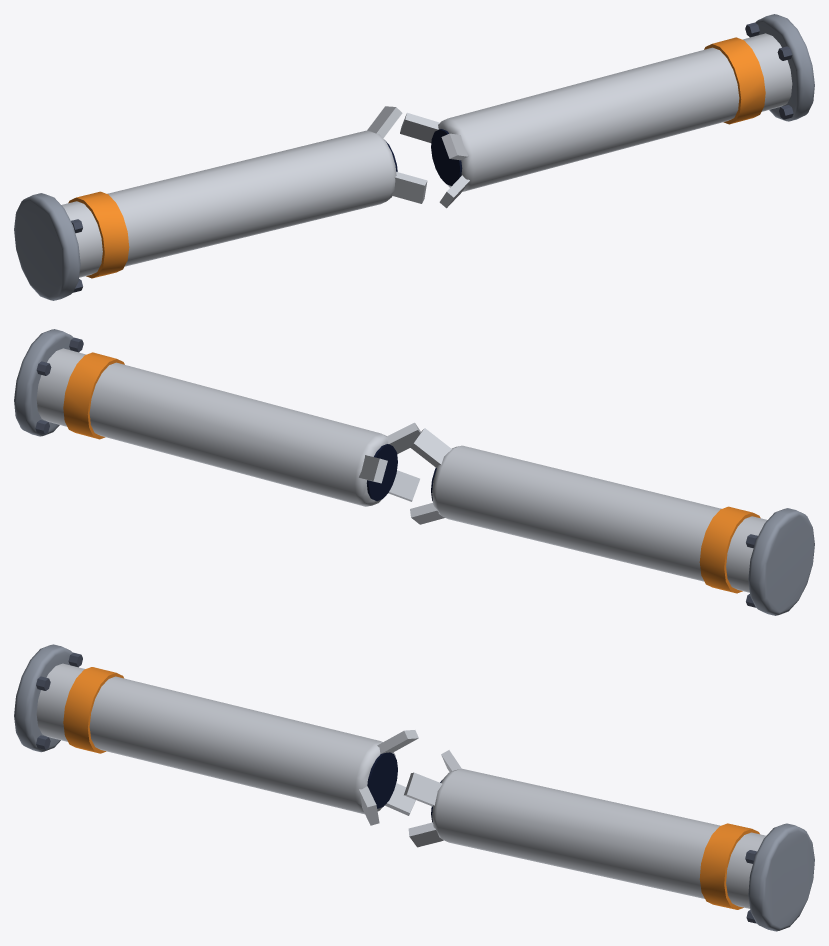
Rendered from Fx_BrokenPipe.glb.
The picture shows the model from 3 angles, top to bottom: view 1: azimuth 30°, elevation 25°; view 2: azimuth 150°, elevation 25°; view 3: azimuth 330°, elevation 25°; orthographic projection.
Parts seen in each view (by area): view 1: Fx_BrokenPipe.PipeL, Fx_BrokenPipe.Move_PipeR; view 2: Fx_BrokenPipe.PipeL, Fx_BrokenPipe.Move_PipeR; view 3: Fx_BrokenPipe.Move_PipeR, Fx_BrokenPipe.PipeL.
Part boxes in pixels (bbox=[...]): Fx_BrokenPipe.PipeL: bbox=[14, 106, 427, 300]; Fx_BrokenPipe.Move_PipeR: bbox=[400, 14, 814, 208]; Fx_BrokenPipe.PipeL: bbox=[410, 428, 814, 615]; Fx_BrokenPipe.Move_PipeR: bbox=[14, 329, 420, 506]; Fx_BrokenPipe.Move_PipeR: bbox=[404, 750, 814, 931]; Fx_BrokenPipe.PipeL: bbox=[14, 644, 418, 825].
Bounding box in the file's own units: 1.84 × 0.2345 × 0.2369.
Materials: 1 (1 with a texture image).
